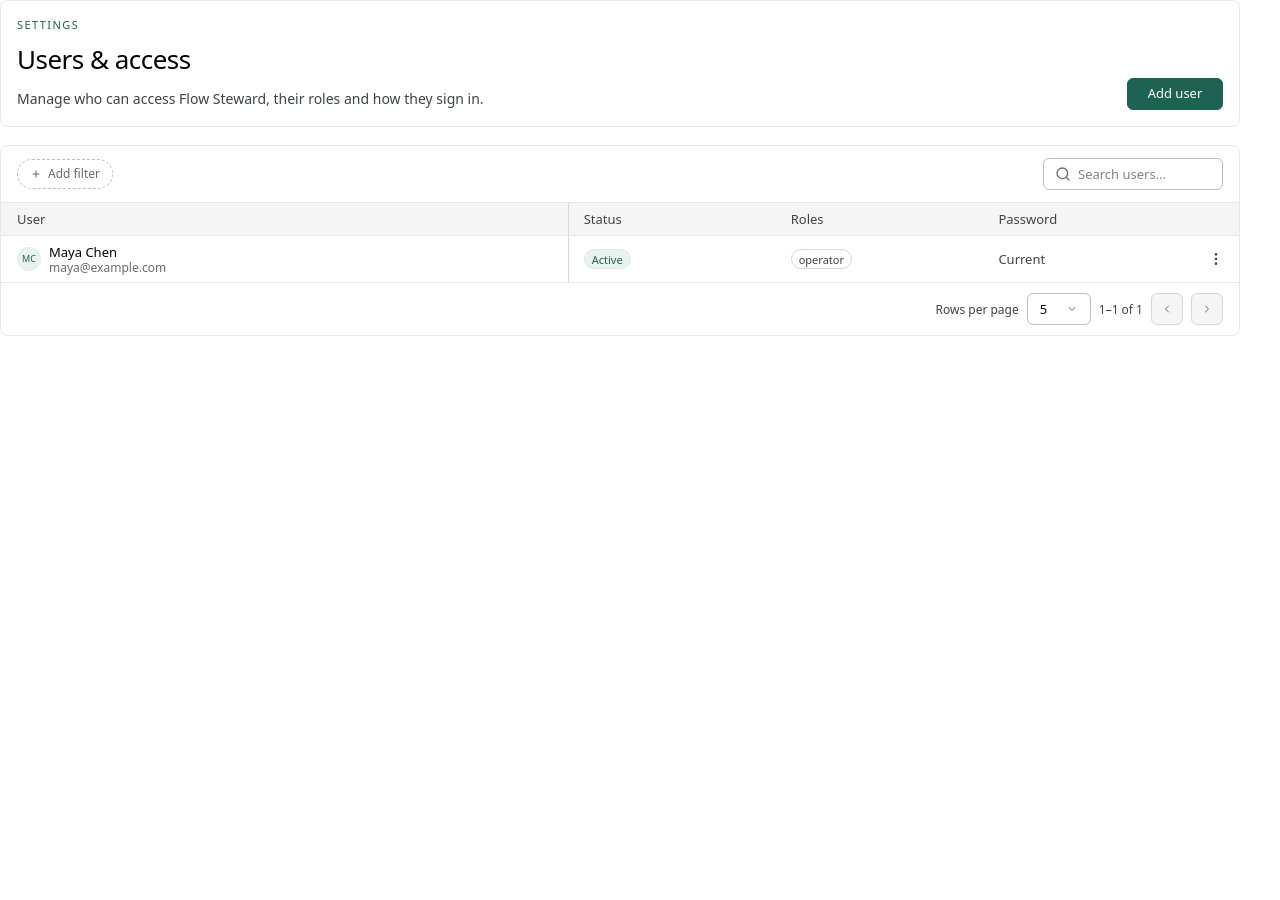
Test case: SettingsUsersPage › keeps password-change policy explicit in the set-password dialog
Step 1. Click the button named "Actions for Maya Chen" → click(1216, 259), box x1=1200 y1=243 x2=1232 y2=275
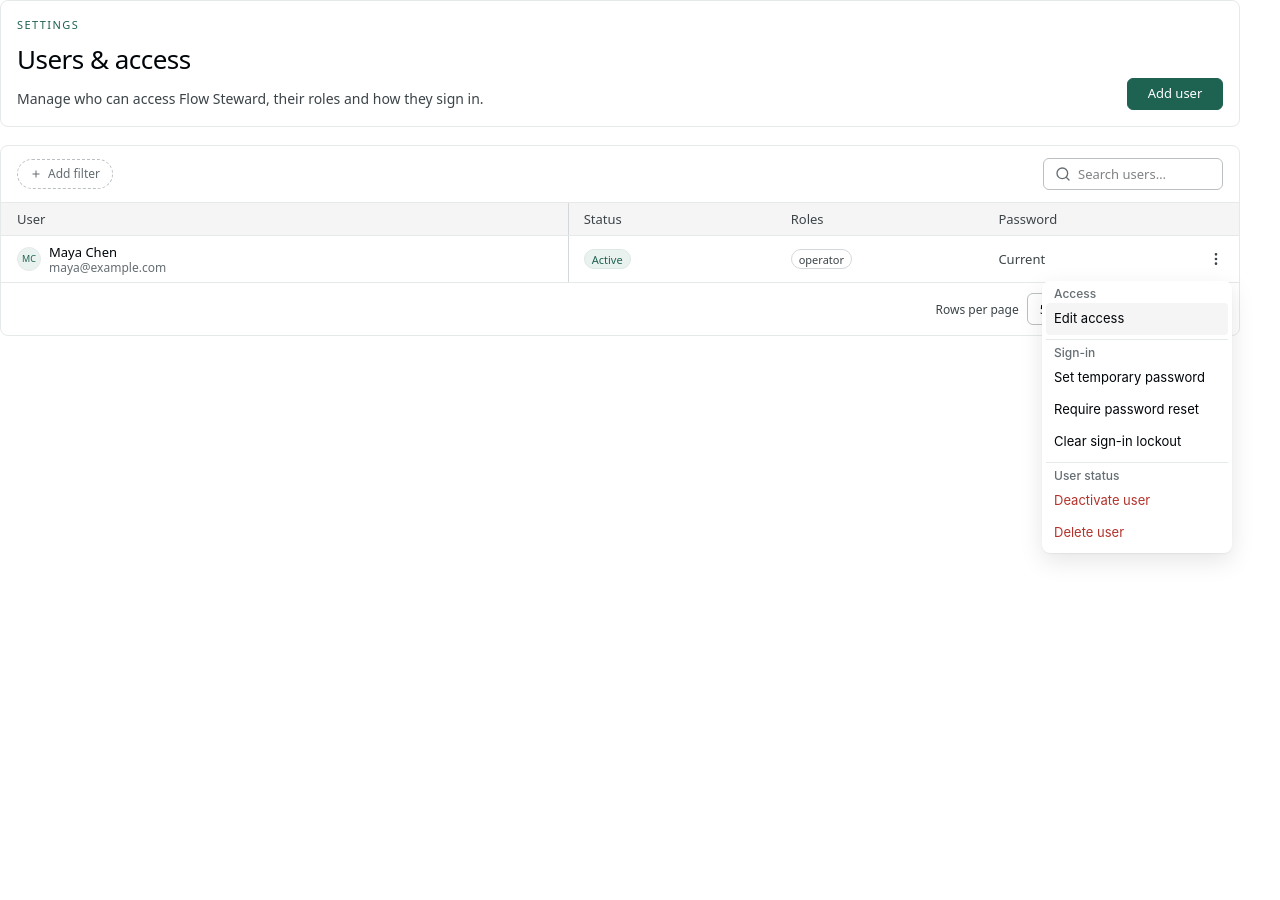
Step 2. Click the menu item "Set temporary password" → click(1137, 378), box x1=1046 y1=362 x2=1228 y2=394
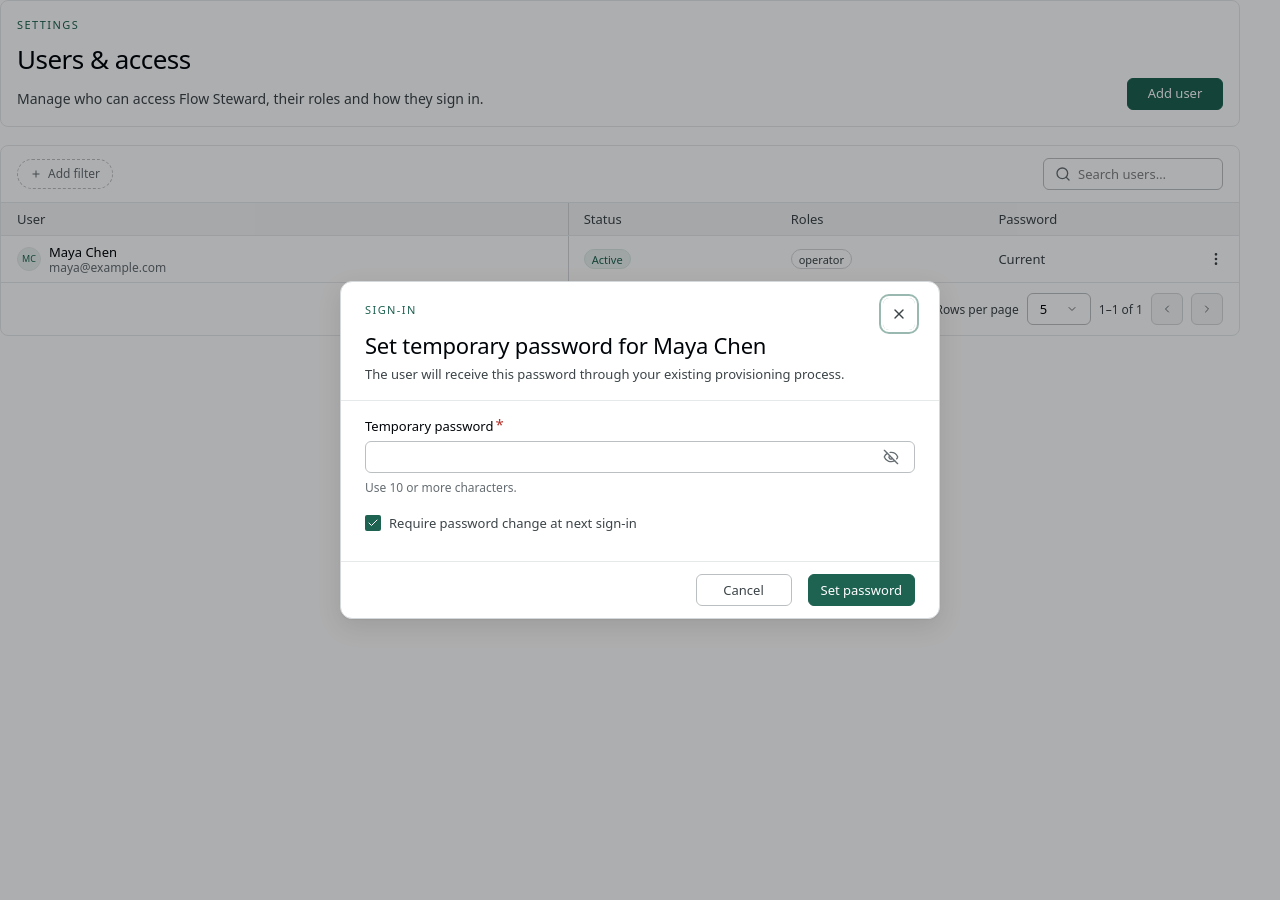
Expected: the text "Sign-in" is shown, x1=365 y1=302 x2=417 y2=317
Expected: the checkbox labelled "Require password change at next sign-in" is checked, x1=365 y1=514 x2=637 y2=532
Expected: the text "The user will receive this password through your existing provisioning process." is shown, x1=365 y1=364 x2=867 y2=384
